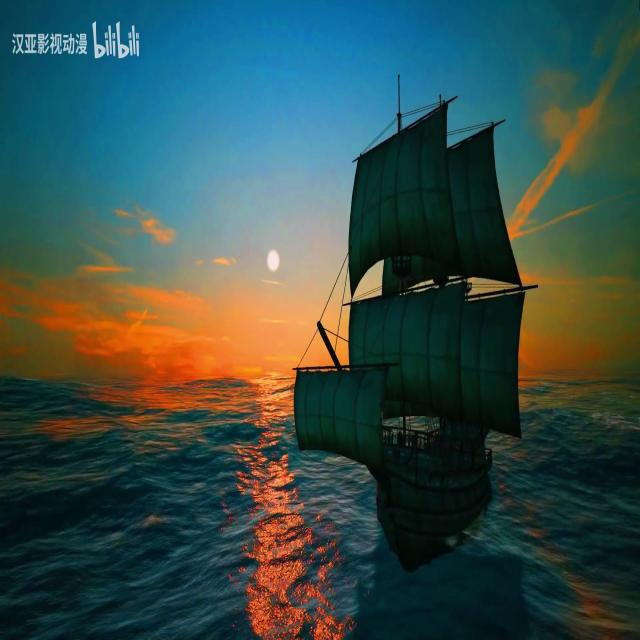sailboat: (294, 66, 538, 557)
